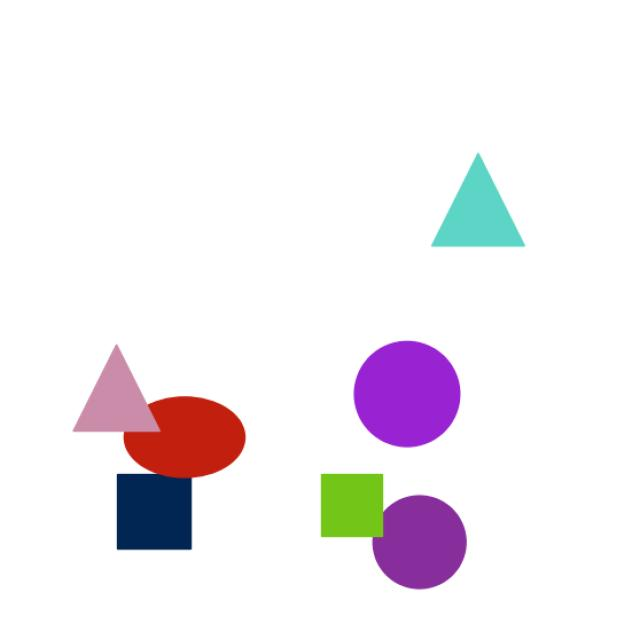Circle: (334, 325, 482, 452), (372, 489, 508, 598)
Oval: (115, 391, 295, 476)
Triangle: (408, 133, 544, 268), (58, 345, 194, 448)
square: (102, 465, 216, 571), (310, 467, 414, 548)
